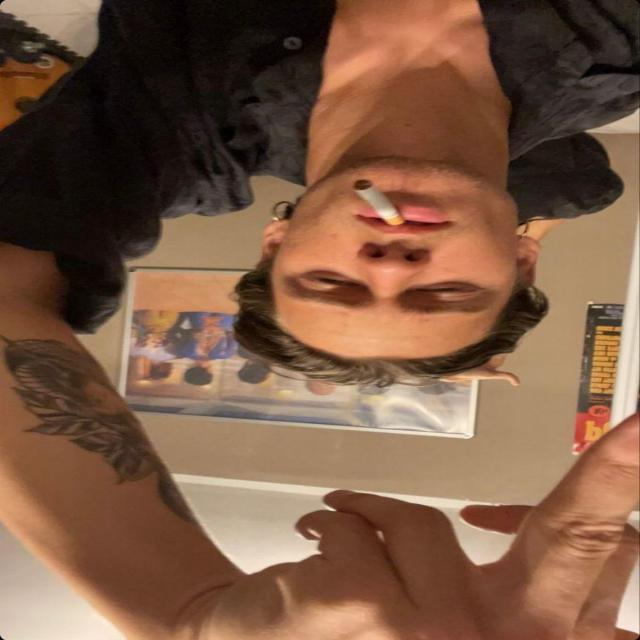cigarette: (352, 170, 416, 232)
